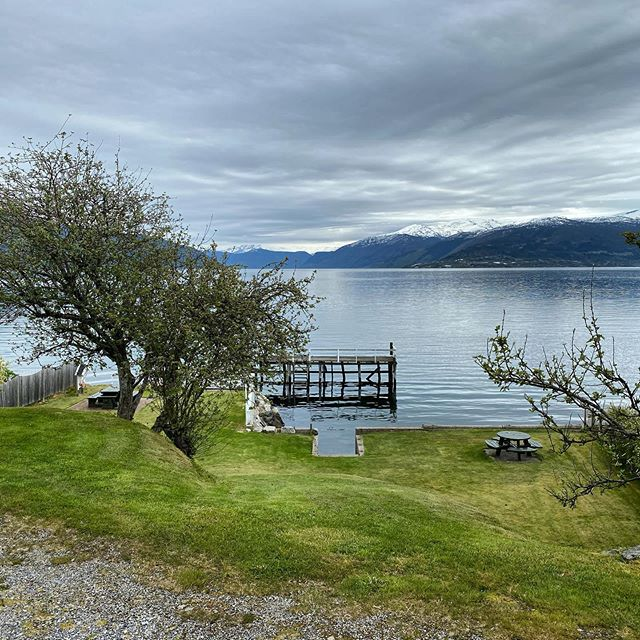grass: (13, 416, 617, 640)
mountain: (355, 189, 617, 257)
sea: (279, 268, 640, 418)
sky: (19, 1, 640, 192)
tree: (138, 222, 323, 468), (1, 141, 185, 387), (476, 294, 636, 473)
